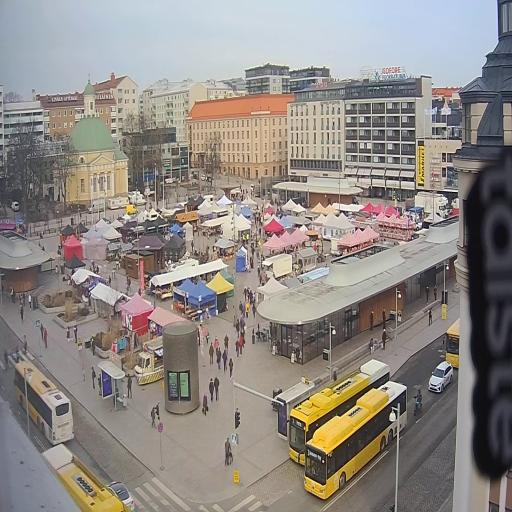bus: (304, 381, 407, 499), (288, 360, 389, 465), (42, 444, 129, 512), (14, 356, 74, 445), (446, 319, 459, 367)
car: (108, 481, 134, 512), (428, 361, 453, 392)
delivery: (135, 337, 163, 384), (414, 191, 449, 218)
two-wheels: (413, 387, 422, 415)
